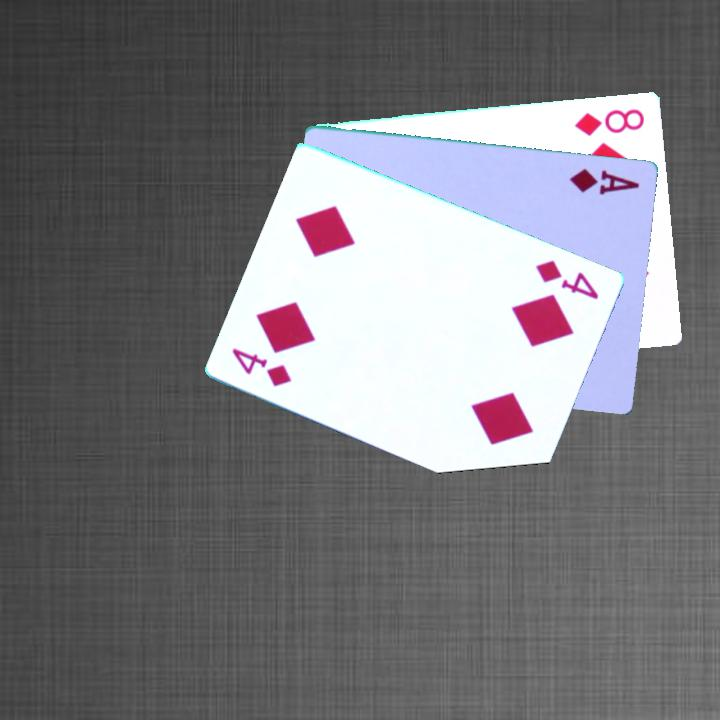4d: (532, 256, 602, 302), (228, 344, 296, 390)
8d: (571, 104, 648, 139)
Ad: (567, 164, 643, 197)
